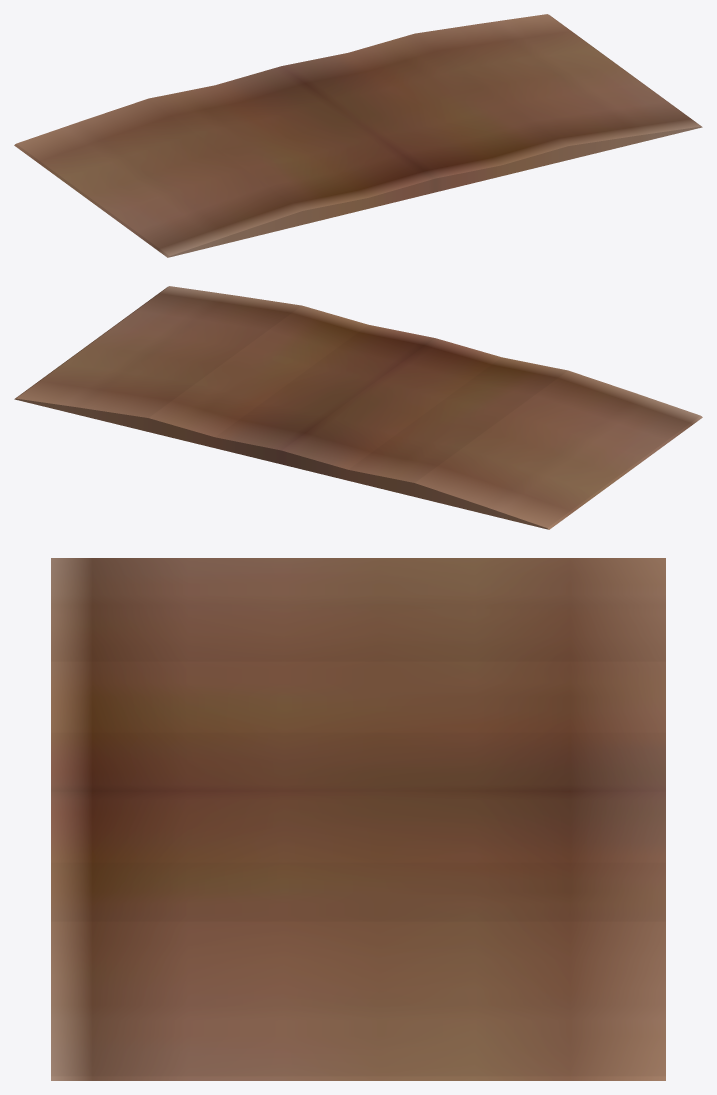
The model's file is DirtBikeTrack.glb.
3 views of the same model, one above another, from view 1: azimuth 30°, elevation 25°; view 2: azimuth 150°, elevation 25°; view 3: azimuth 270°, elevation 25° (orthographic). The views are drawn at different scales.
Parts seen in each view (by area): view 1: DirtBikeTrack; view 2: DirtBikeTrack; view 3: DirtBikeTrack.
Part boxes in pixels (left/top/right/bottom): DirtBikeTrack: left=14, top=14, right=702, bottom=257; DirtBikeTrack: left=14, top=286, right=702, bottom=529; DirtBikeTrack: left=51, top=558, right=665, bottom=1080.
Bounding box in the file's own units: 8.04 × 0.2016 × 4.
1 material, 1 textured.
